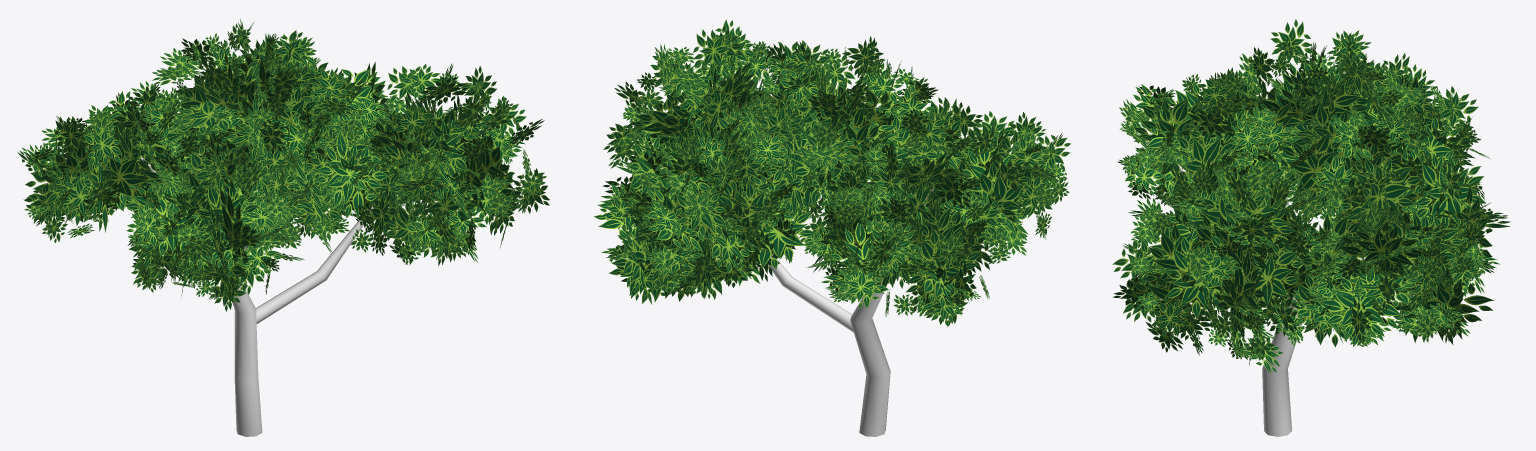
File: Tree3_LOD0.fbx
3 renders of one model, left to right at view 1: azimuth 30°, elevation 25°; view 2: azimuth 150°, elevation 25°; view 3: azimuth 270°, elevation 25°, orthographic. The views are drawn at different scales.
Visible parts, largest first — view 1: Tree3.001; view 2: Tree3.001; view 3: Tree3.001.
Part boxes in pixels (bbox=[...]): Tree3.001: bbox=[17, 18, 549, 436]; Tree3.001: bbox=[593, 19, 1070, 436]; Tree3.001: bbox=[1112, 19, 1510, 436].
Size of the model in its own units: 1276 by 1055 by 1001.
